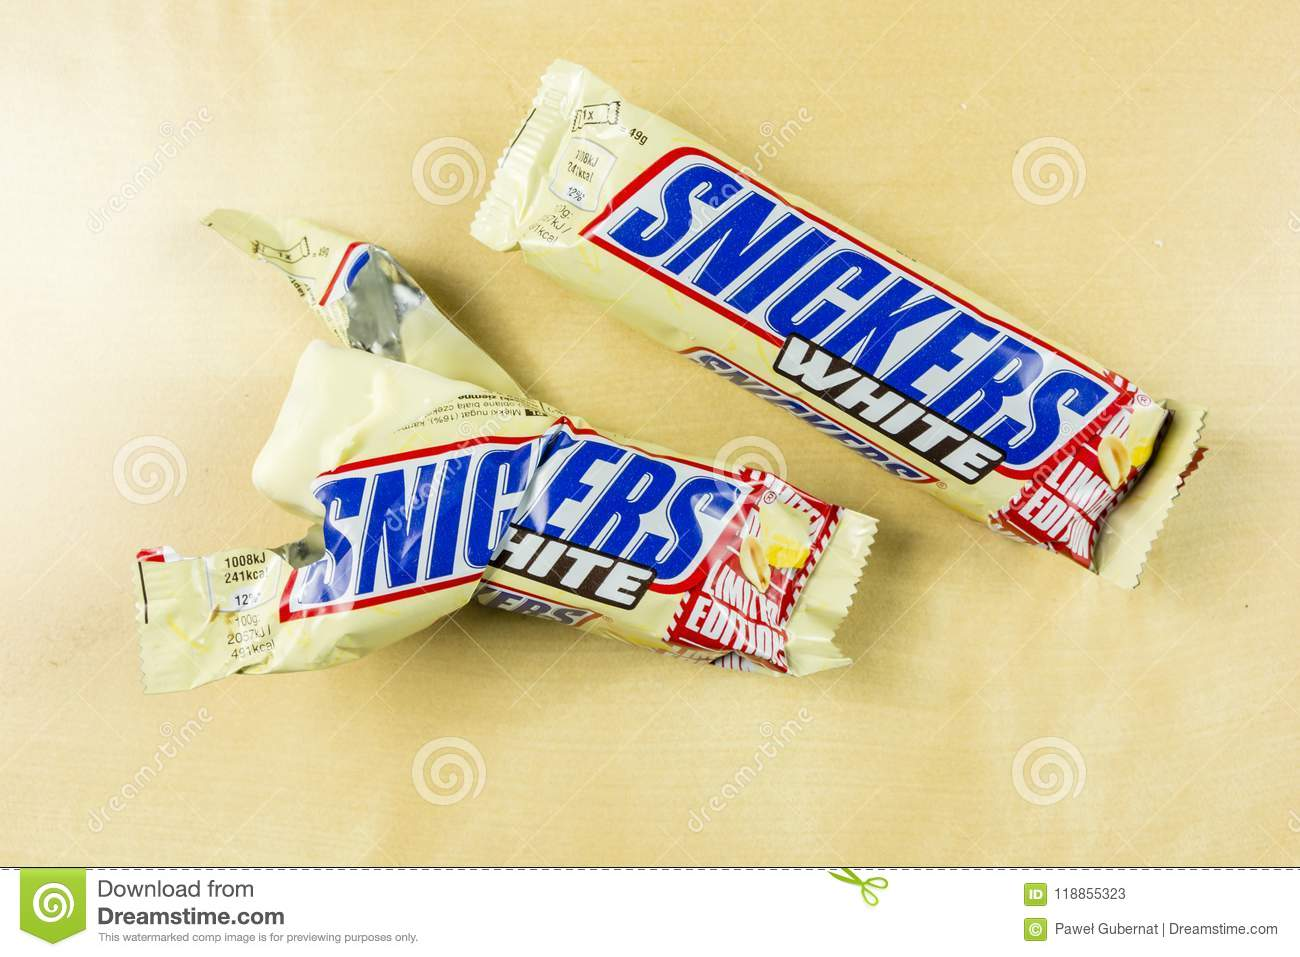snickers: (604, 161, 1110, 473), (604, 161, 1110, 461), (283, 432, 740, 599), (283, 432, 740, 590), (283, 432, 716, 590)
